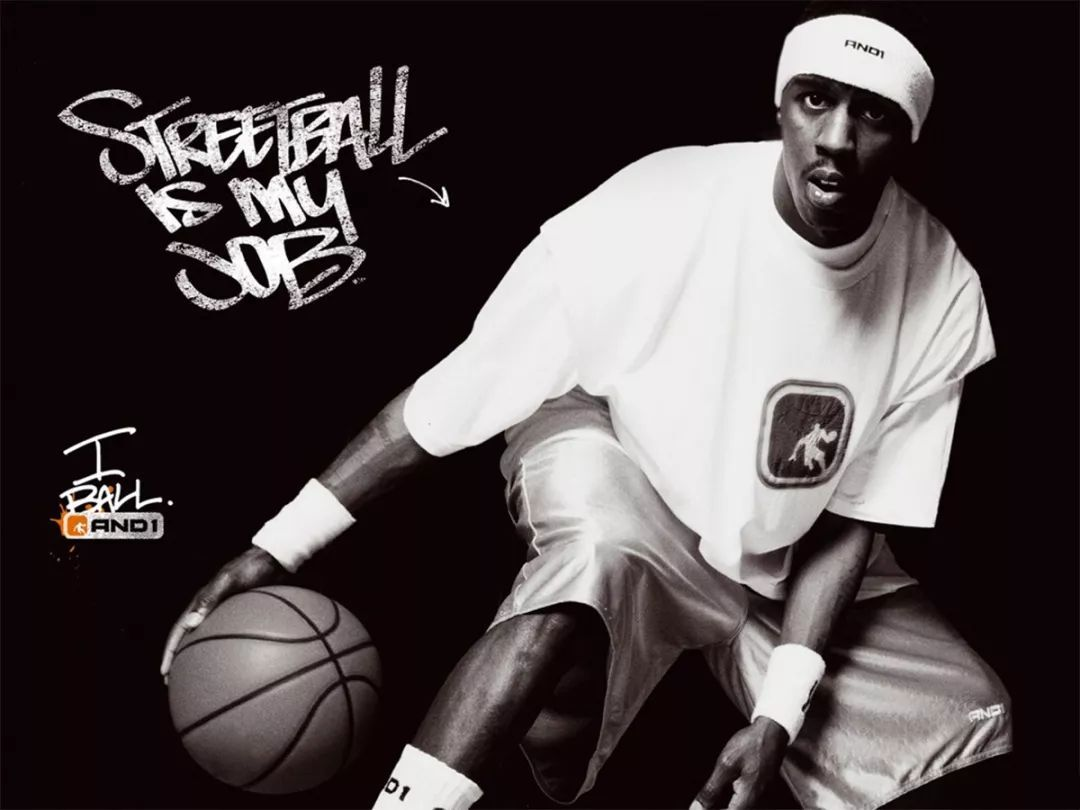ball: (167, 586, 380, 796)
